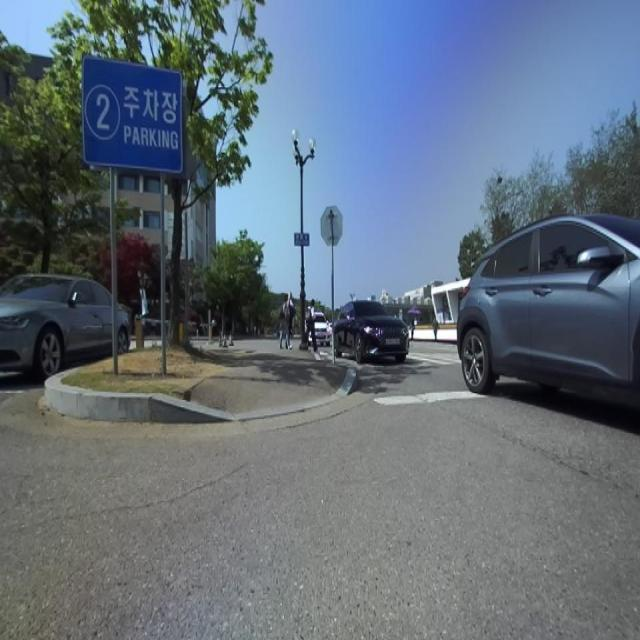sidewalk: (191, 351, 348, 413)
